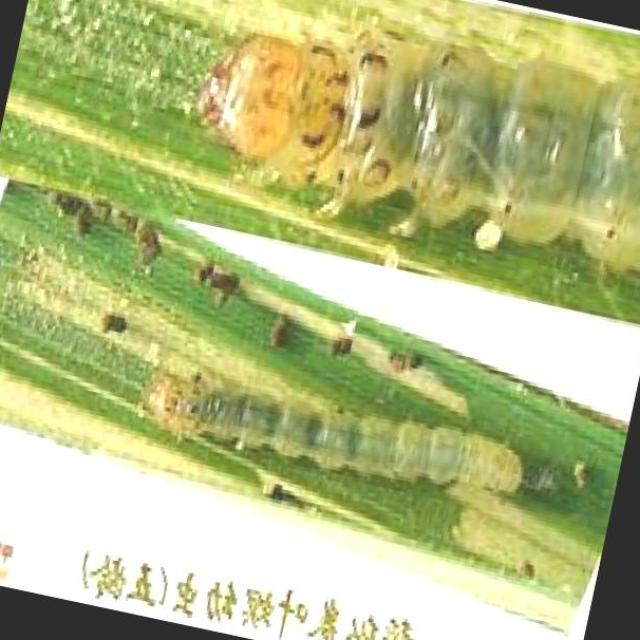leaf folder: (203, 33, 640, 266), (185, 392, 523, 492)
